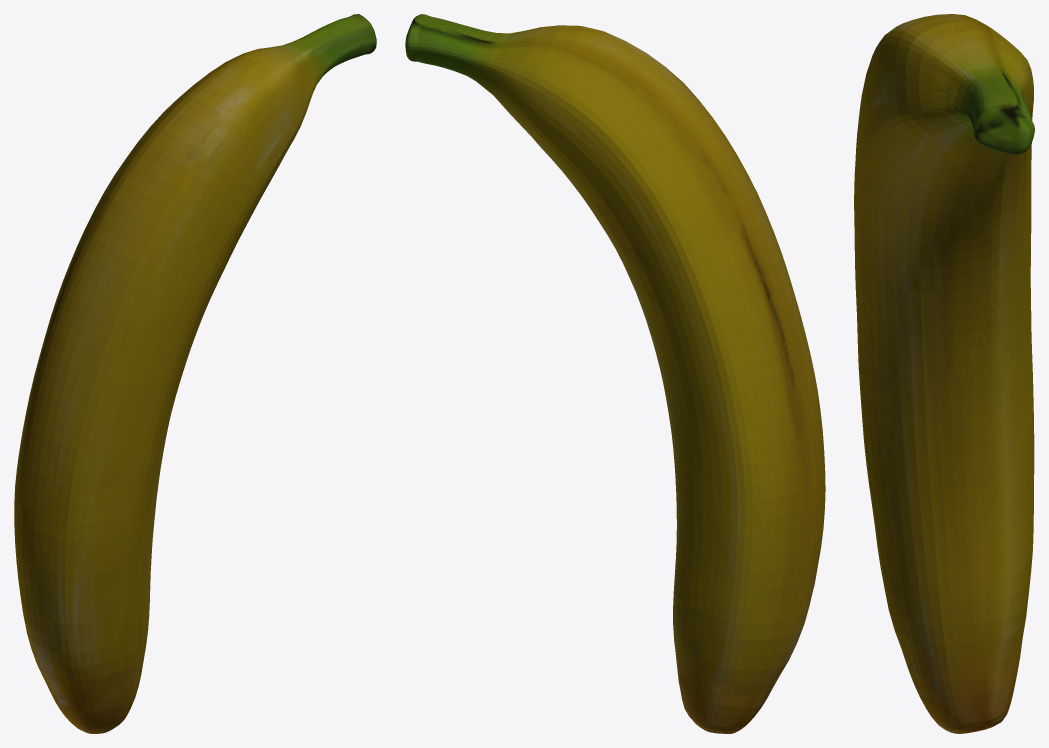
The model's file is ycb_banana.glb.
3 renders of one model, left to right at view 1: azimuth 30°, elevation 25°; view 2: azimuth 150°, elevation 25°; view 3: azimuth 270°, elevation 25°, orthographic. The views are drawn at different scales.
Parts seen in each view (by area): view 1: 011_banana; view 2: 011_banana; view 3: 011_banana.
Boxes of the visible parts, x1,y1,x2,y2 form: 011_banana: [14, 14, 376, 733]; 011_banana: [405, 14, 825, 733]; 011_banana: [854, 14, 1034, 733].
Bounding box in the file's own units: 0.1088 × 0.1783 × 0.0367.
1 material, 1 textured.
